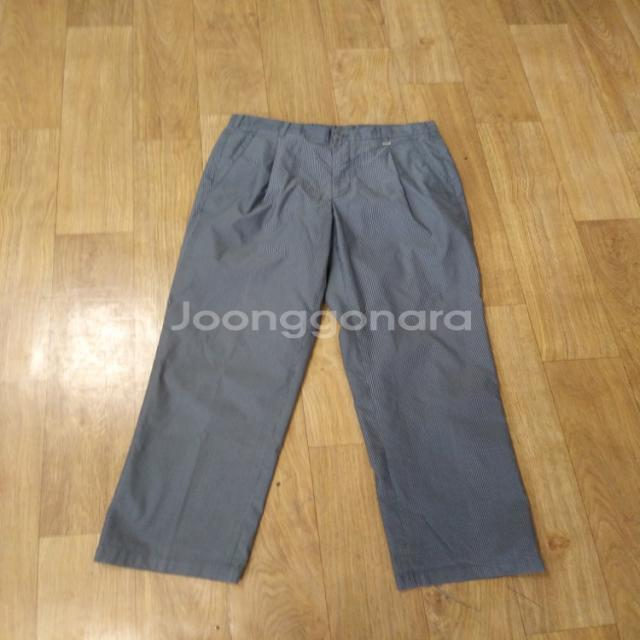long-pants: (93, 115, 546, 595)
